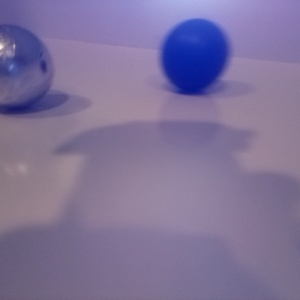alive_ball: (205, 34, 259, 91)
dead_ball: (252, 30, 300, 80), (284, 77, 300, 139)
